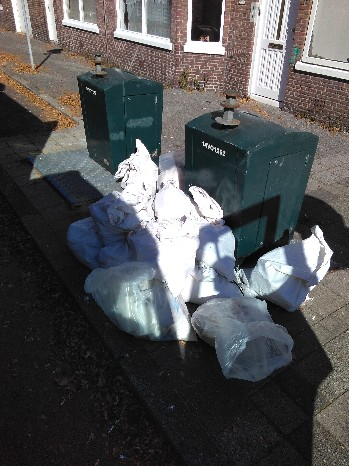Container: (190, 92, 312, 235), (91, 62, 161, 164)
Rest: (207, 296, 279, 376), (101, 254, 174, 332), (59, 204, 129, 283), (259, 244, 347, 306), (148, 199, 214, 281), (172, 217, 240, 280), (150, 134, 181, 211), (127, 172, 161, 218)
